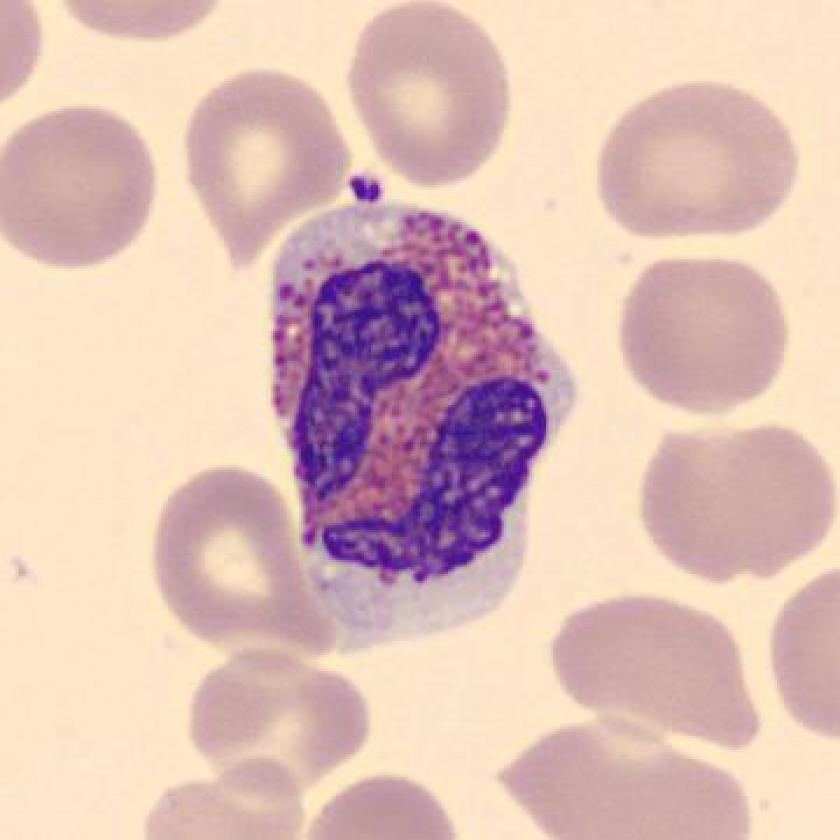eosinophil: (253, 184, 596, 660)
